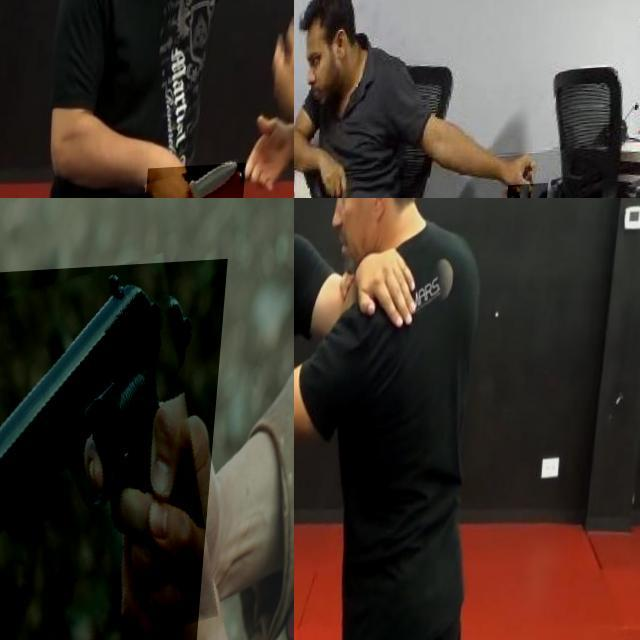-: (294, 497, 342, 608), (151, 166, 253, 198)
gun-knife-thesis - v11 Yolov5 augmented: (0, 263, 229, 640)
